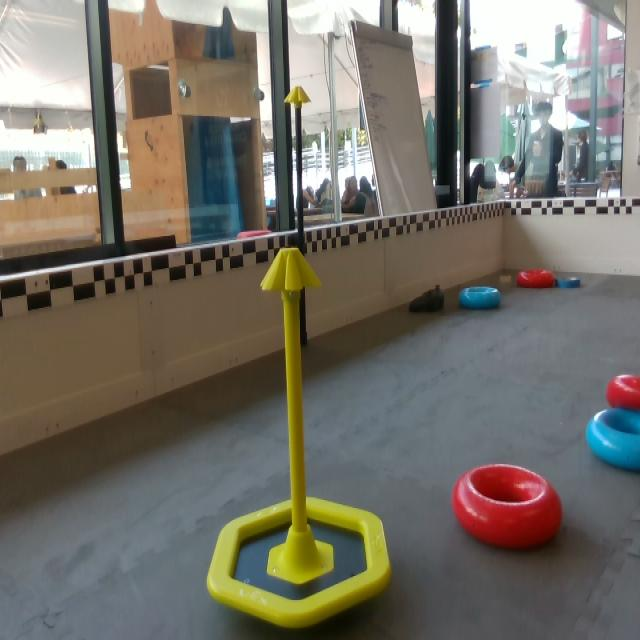Blue-Ring: (585, 408, 639, 473), (457, 285, 503, 311), (557, 276, 583, 289)
Mobile-Goal: (207, 247, 392, 632)
Red-Ring: (452, 464, 563, 553), (606, 375, 639, 408), (516, 269, 554, 287)
Yellow-Stake-Head: (257, 247, 323, 293), (284, 86, 311, 105)
